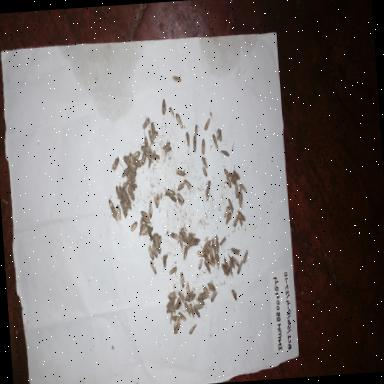pbw: (106, 198, 118, 222), (200, 280, 212, 303), (159, 92, 170, 116), (216, 232, 228, 252), (187, 318, 201, 334), (186, 235, 202, 249), (174, 110, 184, 132), (226, 248, 236, 270), (119, 196, 128, 219), (170, 70, 182, 87), (121, 152, 133, 169), (140, 113, 150, 133), (182, 298, 192, 318), (210, 130, 220, 150), (240, 246, 250, 266), (209, 287, 220, 305), (168, 228, 180, 244), (119, 164, 131, 180), (140, 140, 152, 156), (160, 248, 168, 272), (224, 209, 234, 228), (180, 243, 189, 264), (183, 175, 194, 192), (195, 290, 208, 304), (192, 304, 202, 322), (172, 318, 182, 336), (190, 122, 200, 140), (226, 196, 236, 214), (148, 258, 158, 276), (165, 183, 177, 198), (154, 232, 164, 250), (152, 190, 161, 210), (110, 156, 121, 172), (189, 300, 197, 322), (146, 198, 154, 220), (178, 268, 186, 289), (184, 288, 196, 302), (128, 146, 140, 160), (178, 230, 190, 244), (165, 294, 177, 308), (170, 308, 182, 322), (146, 244, 154, 265), (231, 210, 240, 228), (127, 184, 136, 202), (235, 258, 244, 276), (138, 224, 148, 240), (144, 224, 154, 240), (239, 180, 249, 196), (141, 146, 149, 166), (114, 183, 122, 203), (174, 165, 186, 178), (229, 243, 241, 256), (236, 207, 248, 220), (127, 178, 140, 190), (175, 178, 186, 192), (201, 238, 212, 252), (138, 215, 152, 226), (191, 132, 198, 154), (179, 223, 188, 240), (222, 201, 231, 218), (222, 174, 232, 189), (146, 126, 154, 144), (199, 138, 208, 154), (208, 234, 216, 252), (168, 102, 176, 120), (166, 286, 178, 298), (230, 284, 238, 302), (150, 118, 158, 136), (202, 117, 212, 131), (176, 288, 186, 302), (140, 208, 150, 222), (168, 262, 178, 276), (204, 253, 214, 267), (176, 308, 186, 322), (126, 168, 136, 182), (128, 218, 138, 232), (228, 257, 234, 280), (196, 255, 204, 272), (137, 215, 144, 234), (164, 304, 176, 315), (120, 178, 131, 190), (178, 228, 184, 250), (214, 230, 220, 252), (150, 128, 160, 141), (194, 300, 207, 310), (232, 182, 240, 198), (223, 166, 231, 182), (184, 282, 192, 298), (222, 254, 230, 270), (220, 262, 229, 276), (237, 210, 244, 228), (116, 202, 122, 223), (206, 278, 215, 292), (218, 146, 230, 156), (162, 145, 174, 155), (184, 127, 190, 147), (150, 152, 160, 164), (132, 157, 142, 169), (159, 140, 171, 150), (146, 150, 152, 170), (152, 230, 158, 249), (232, 252, 240, 266), (200, 152, 207, 168), (174, 296, 182, 310), (238, 186, 243, 208), (218, 126, 224, 144), (210, 244, 216, 262), (214, 252, 220, 270), (204, 244, 212, 257), (232, 167, 240, 180), (176, 191, 184, 204), (195, 248, 208, 256), (142, 134, 148, 151), (152, 241, 158, 258), (186, 228, 196, 238), (228, 169, 236, 181), (202, 260, 210, 272), (237, 190, 242, 208), (155, 240, 161, 254), (128, 152, 134, 166), (201, 166, 208, 178), (230, 174, 236, 186), (215, 126, 220, 140), (130, 169, 138, 176)
